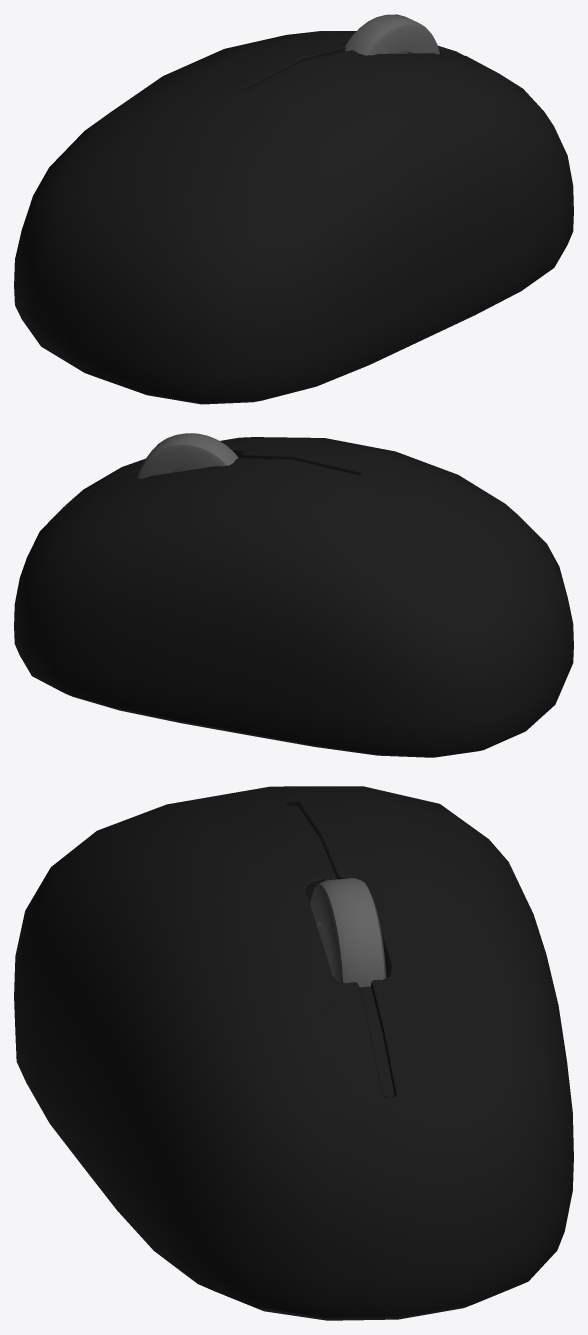
Rendered from computer-mouse.glb.
The picture shows the model from 3 angles, top to bottom: view 1: azimuth 30°, elevation 25°; view 2: azimuth 150°, elevation 25°; view 3: azimuth 270°, elevation 25°; orthographic projection. The views are drawn at different scales.
Visible parts, largest first — view 1: Object_32; view 2: Object_32; view 3: Object_32.
Part boxes in pixels (bbox=[...]): Object_32: bbox=[14, 14, 573, 404]; Object_32: bbox=[14, 433, 573, 757]; Object_32: bbox=[14, 786, 573, 1320].
Size of the model in its own units: 0.1366 by 0.0632 by 0.0922.
1 material, 1 textured.
